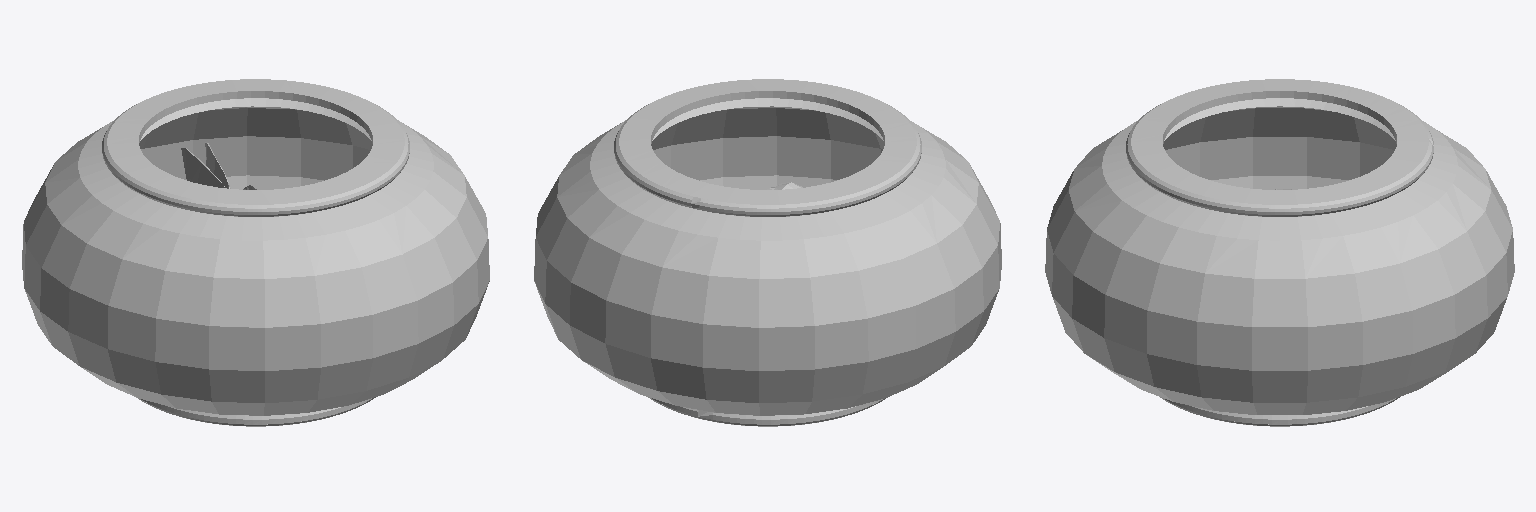
Rendered from GoldfishAndBowl.obj.
3 views of the same model, side by side, from view 1: azimuth 30°, elevation 25°; view 2: azimuth 150°, elevation 25°; view 3: azimuth 270°, elevation 25° (orthographic).
Visible parts, largest first — view 1: initialShadingGroup revolvedSurface1, initialShadingGroup polySurface1; view 2: initialShadingGroup revolvedSurface1; view 3: initialShadingGroup revolvedSurface1.
Boxes of the visible parts, box(x1,y1,x2,y2) form: initialShadingGroup revolvedSurface1: box(22, 79, 489, 426); initialShadingGroup polySurface1: box(181, 142, 256, 189); initialShadingGroup revolvedSurface1: box(534, 79, 1001, 426); initialShadingGroup revolvedSurface1: box(1045, 79, 1514, 426).
Bounding box in the file's own units: 23.84 × 13.03 × 24.02.